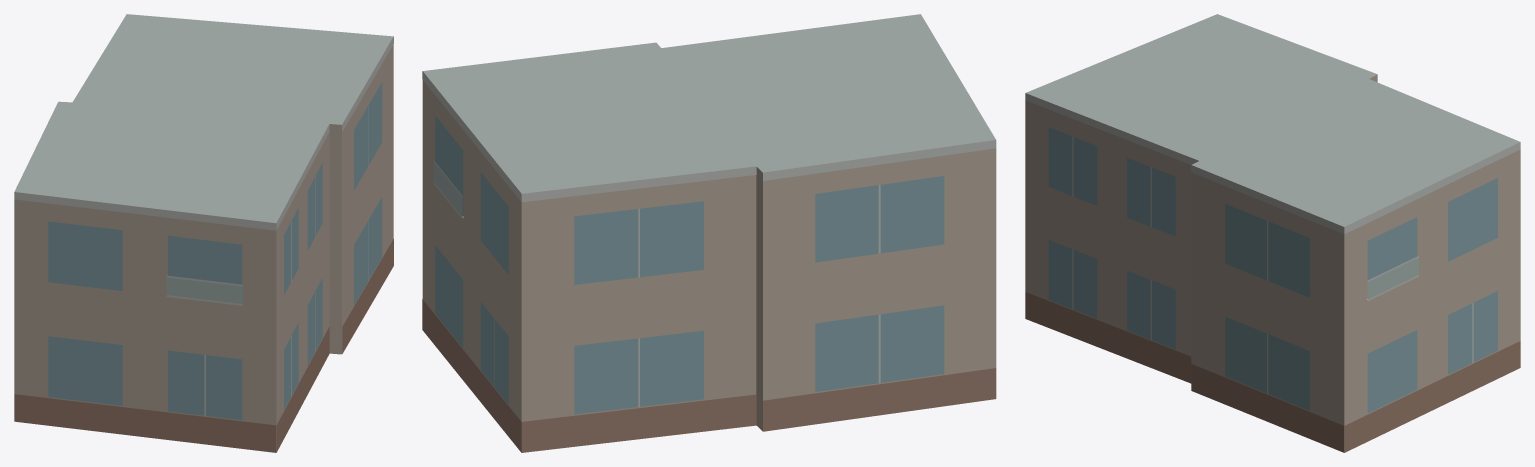
The model's file is survey-upis-32506043.glb.
3 views of the same model, side by side, from view 1: azimuth 30°, elevation 25°; view 2: azimuth 150°, elevation 25°; view 3: azimuth 270°, elevation 25° (orthographic). The views are drawn at different scales.
Visible parts, largest first — view 1: survey-upis-32506043.tmp; view 2: survey-upis-32506043.tmp; view 3: survey-upis-32506043.tmp.
Part boxes in pixels (x1=…): survey-upis-32506043.tmp: x1=14, y1=14, x2=393, y2=452; survey-upis-32506043.tmp: x1=422, y1=14, x2=996, y2=452; survey-upis-32506043.tmp: x1=1025, y1=14, x2=1520, y2=452.
Size of the model in its own units: 15.18 by 7.5 by 14.92.
